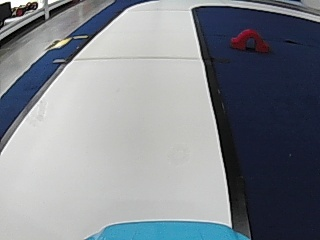bridge: (230, 28, 267, 52)
